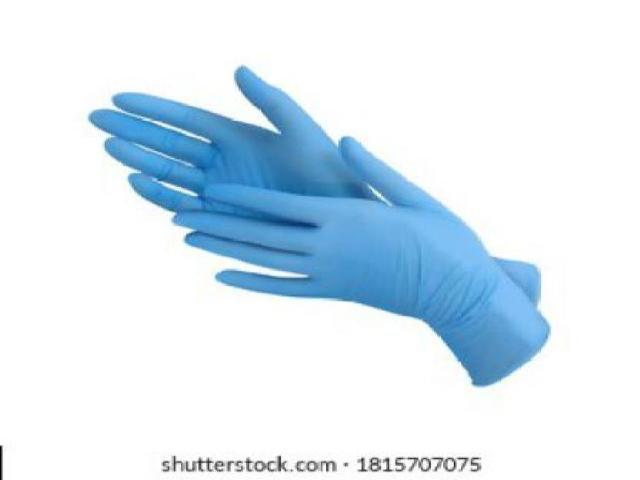Hand-in-Glove: (90, 61, 564, 386)
